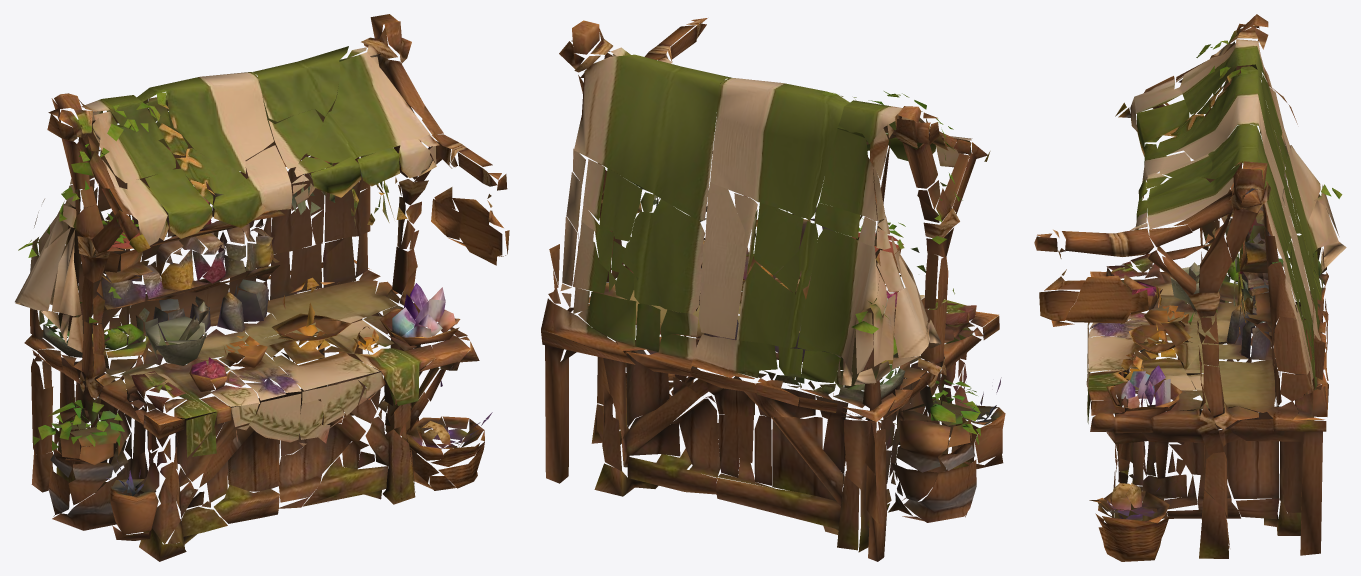
Rendered from apothecary.glb.
3 views of the same model, side by side, from view 1: azimuth 30°, elevation 25°; view 2: azimuth 150°, elevation 25°; view 3: azimuth 270°, elevation 25° (orthographic). The views are drawn at different scales.
Visible parts, largest first — view 1: tripo_node_a01e245c-fc06-4c91-a242-06a884fb4958; view 2: tripo_node_a01e245c-fc06-4c91-a242-06a884fb4958; view 3: tripo_node_a01e245c-fc06-4c91-a242-06a884fb4958.
Boxes of the visible parts, box(x1,y1,x2,y2) form: tripo_node_a01e245c-fc06-4c91-a242-06a884fb4958: box(15, 14, 509, 561); tripo_node_a01e245c-fc06-4c91-a242-06a884fb4958: box(541, 18, 1005, 561); tripo_node_a01e245c-fc06-4c91-a242-06a884fb4958: box(1034, 14, 1346, 561).
Bounding box in the file's own units: 1.8 × 1.8 × 1.29.
1 material, 1 textured.
